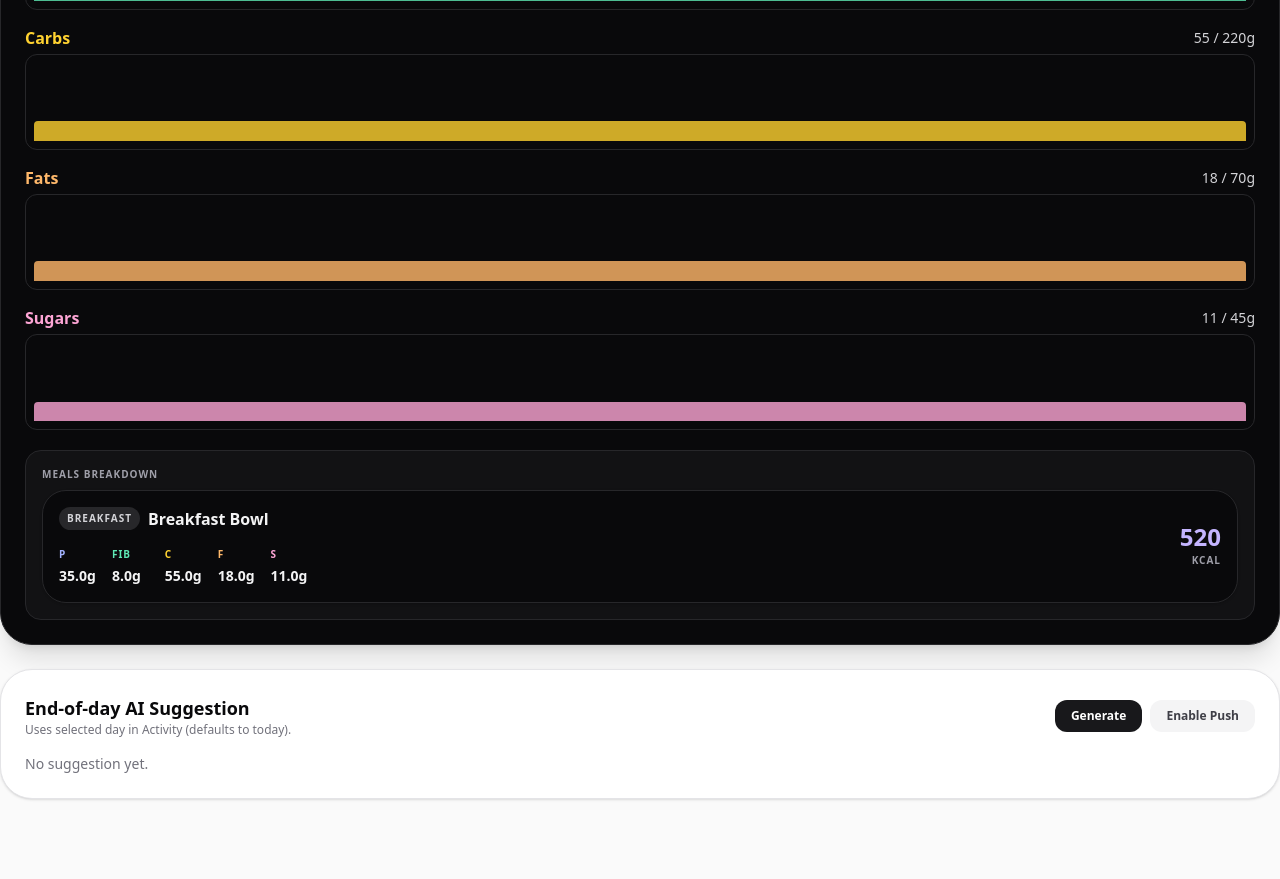
Test: NutritionTrends › generates AI suggestion and displays fallback notice details
The image size is (1280, 879).
(page scrolled)
Click the button "Generate" at (1099, 716), box [1055,700,1142,732]
(page scrolled)
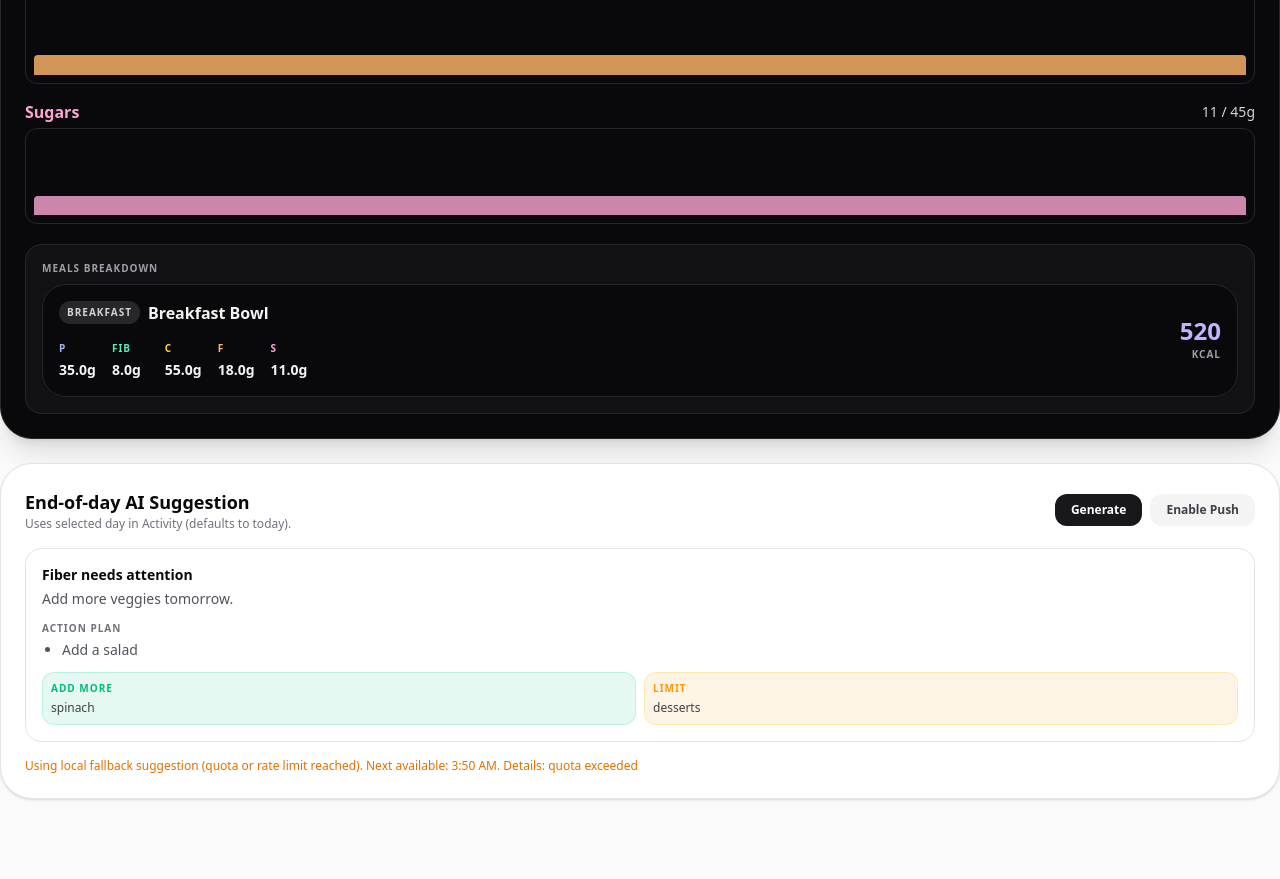
Check: the text "Fiber needs attention" is shown, box [42,565,193,584]
Check: the text "Using local fallback suggestion" is shown, box [25,757,638,774]
Check: the list item "Add a salad" is shown, box [62,640,138,659]
